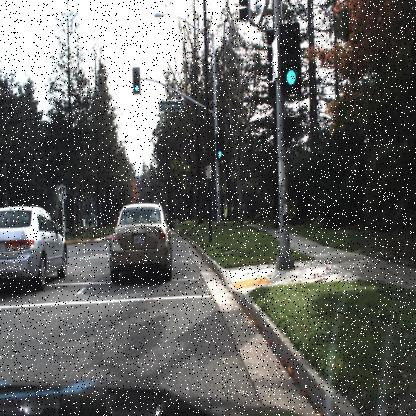car: (0, 205, 68, 289), (109, 199, 173, 285)
trafficLight: (278, 20, 300, 93), (214, 132, 224, 162), (132, 66, 140, 93)
